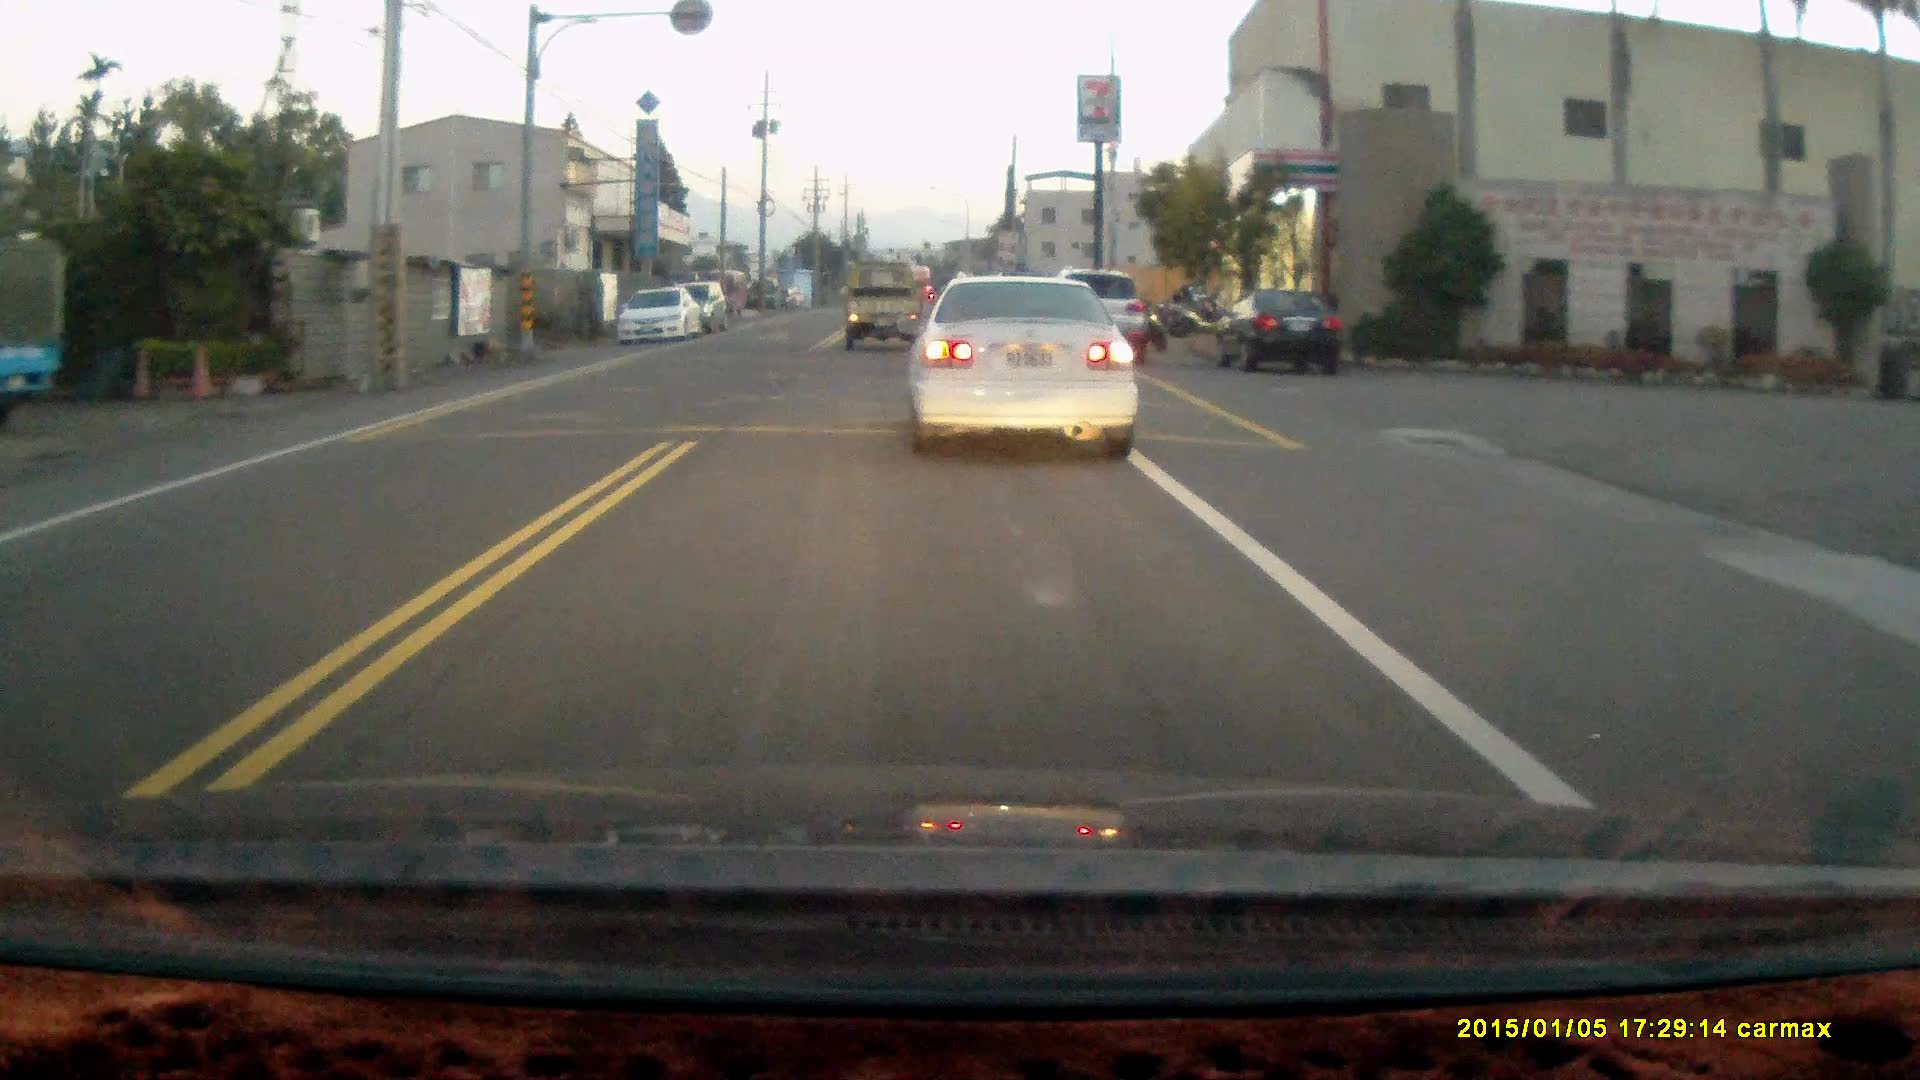vehicle: (913, 269, 1149, 459), (1208, 286, 1346, 375), (1047, 270, 1156, 371), (840, 265, 934, 356), (613, 282, 707, 347)
